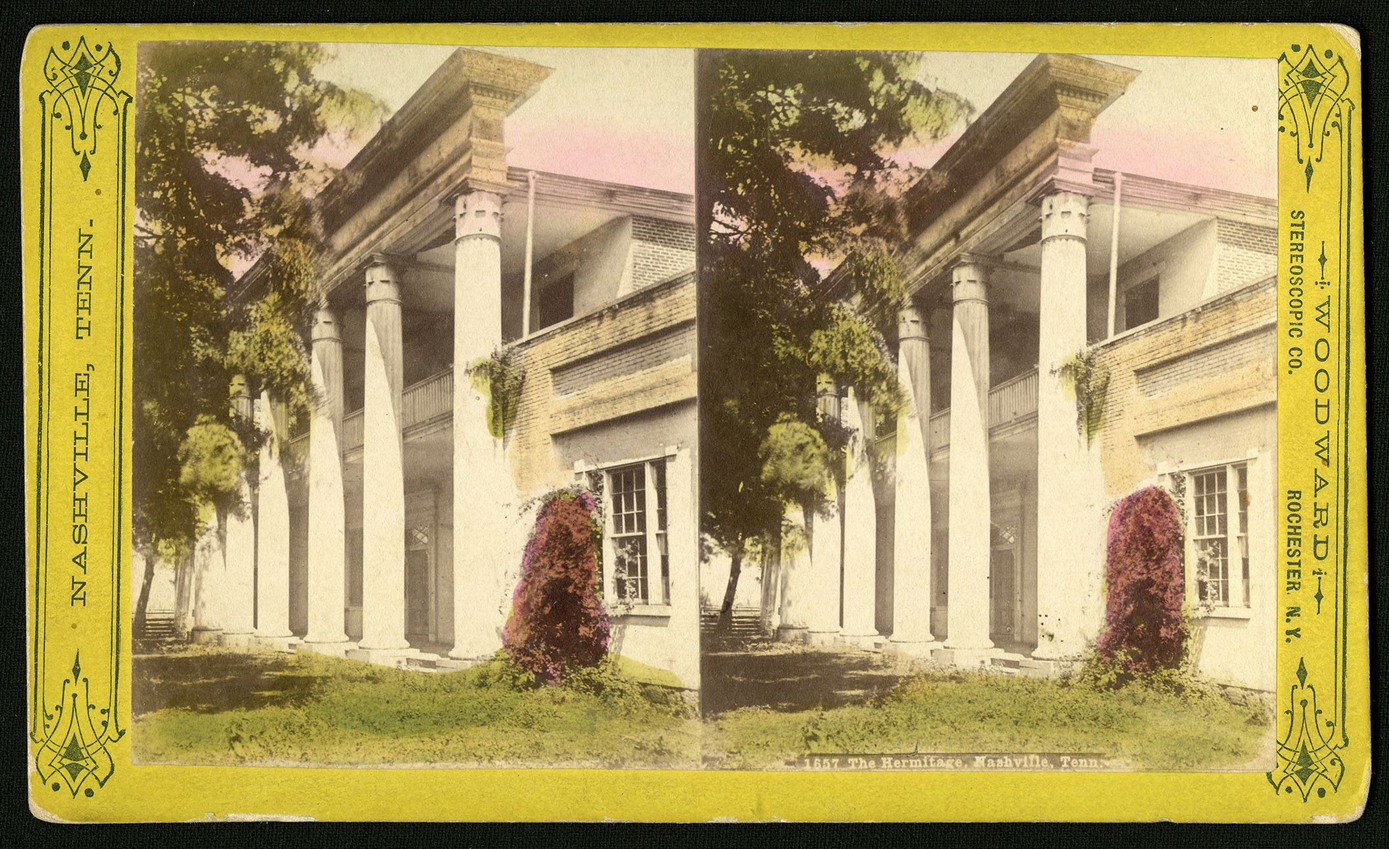half_image: (699, 48, 1277, 770), (131, 40, 700, 768)
